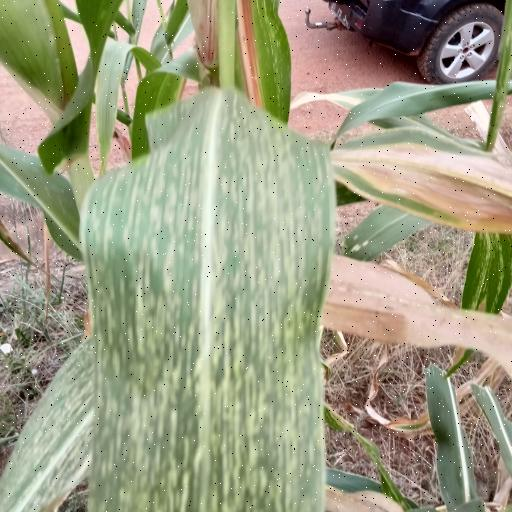Corn_Streak: (79, 85, 325, 512)
